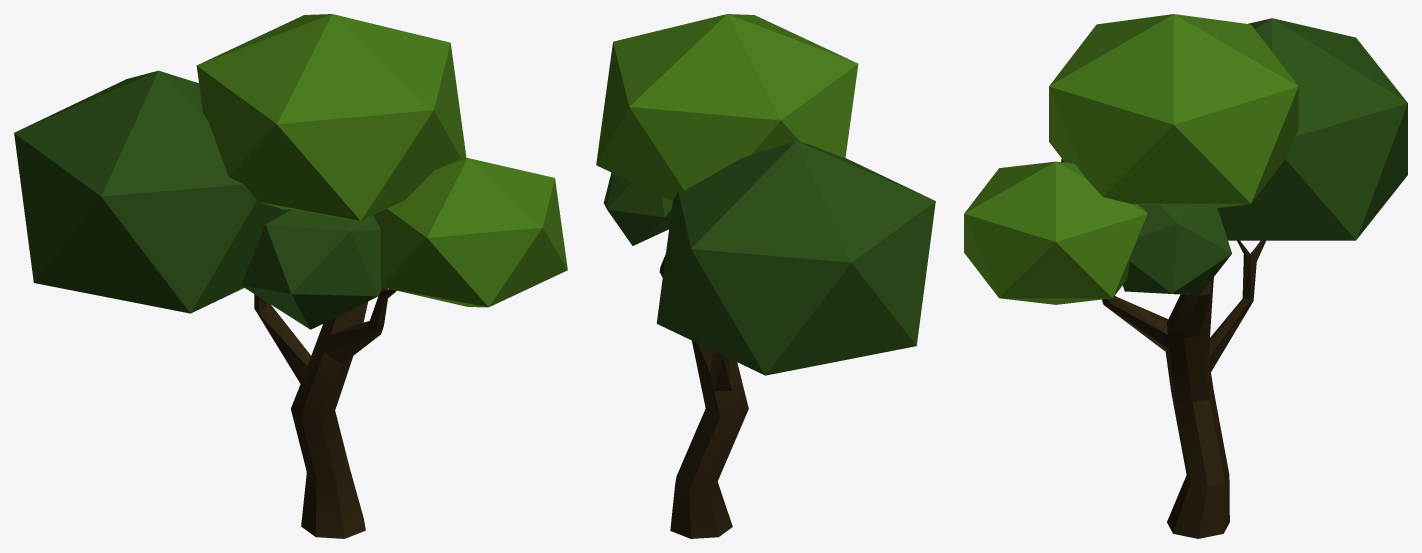
File: tree.fbx
The picture shows the model from 3 angles, left to right: view 1: azimuth 30°, elevation 25°; view 2: azimuth 150°, elevation 25°; view 3: azimuth 270°, elevation 25°; orthographic projection. The views are drawn at different scales.
Visible parts, largest first — view 1: GeoSphere003, GeoSphere001, GeoSphere002, Cylinder001, GeoSphere005; view 2: GeoSphere003, GeoSphere001, Cylinder001, GeoSphere004; view 3: GeoSphere001, GeoSphere003, GeoSphere002, Cylinder001, GeoSphere004.
Boxes of the visible parts, left/top/right/bottom form: GeoSphere003: left=14, top=70, right=282, bottom=313; GeoSphere001: left=196, top=14, right=466, bottom=221; GeoSphere002: left=373, top=158, right=567, bottom=307; Cylinder001: left=254, top=287, right=396, bottom=538; GeoSphere005: left=241, top=209, right=382, bottom=329; GeoSphere003: left=656, top=141, right=935, bottom=375; GeoSphere001: left=596, top=14, right=858, bottom=200; Cylinder001: left=659, top=254, right=748, bottom=538; GeoSphere004: left=603, top=172, right=672, bottom=245; GeoSphere001: left=1049, top=14, right=1298, bottom=207; GeoSphere003: left=1219, top=18, right=1407, bottom=240; GeoSphere002: left=964, top=161, right=1147, bottom=304; Cylinder001: left=1102, top=208, right=1265, bottom=538; GeoSphere004: left=1123, top=204, right=1231, bottom=295.
Bounding box in the file's own units: 606 × 743 × 593.
